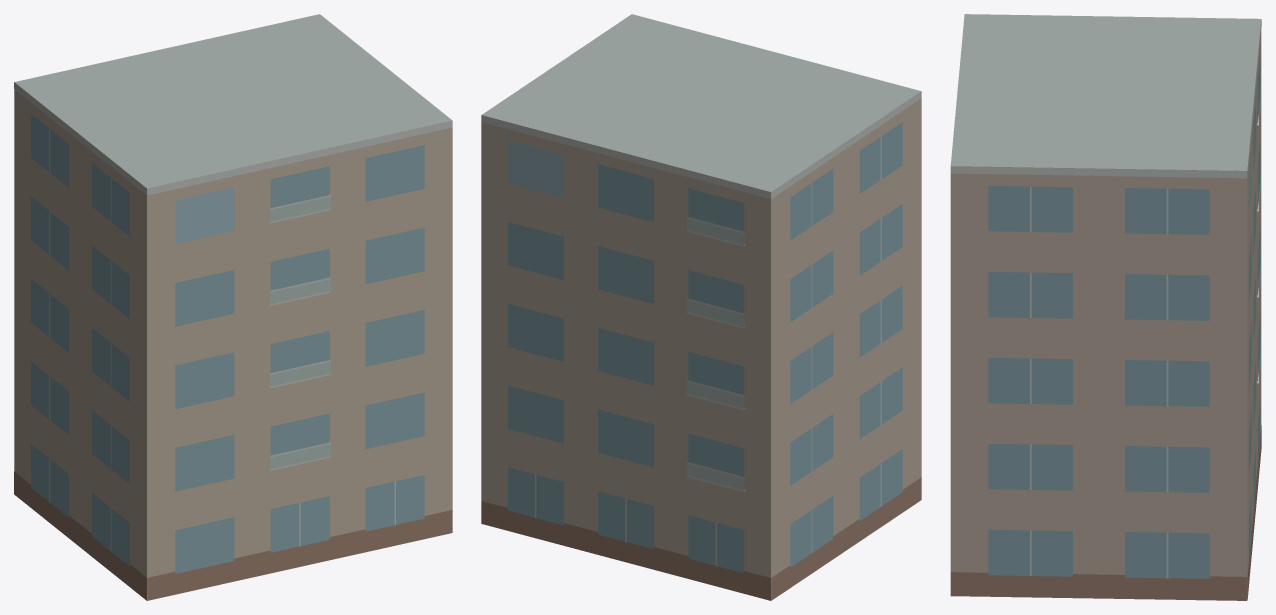
File: survey-upis-33024274.glb
3 views of the same model, side by side, from view 1: azimuth 30°, elevation 25°; view 2: azimuth 150°, elevation 25°; view 3: azimuth 270°, elevation 25° (orthographic). The views are drawn at different scales.
Parts seen in each view (by area): view 1: survey-upis-33024274.tmp; view 2: survey-upis-33024274.tmp; view 3: survey-upis-33024274.tmp.
Part boxes in pixels (x1=…): survey-upis-33024274.tmp: x1=14, y1=14, x2=452, y2=600; survey-upis-33024274.tmp: x1=481, y1=14, x2=921, y2=600; survey-upis-33024274.tmp: x1=950, y1=14, x2=1261, y2=600.
Bounding box in the file's own units: 11.12 × 14.2 × 9.31.
